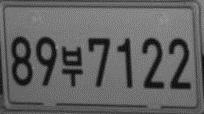1: (116, 37, 134, 89)
2: (167, 36, 192, 90), (141, 36, 164, 89)
7: (87, 36, 111, 87)
8: (10, 36, 32, 86)
9: (34, 35, 57, 86)
부: (61, 44, 84, 87)
